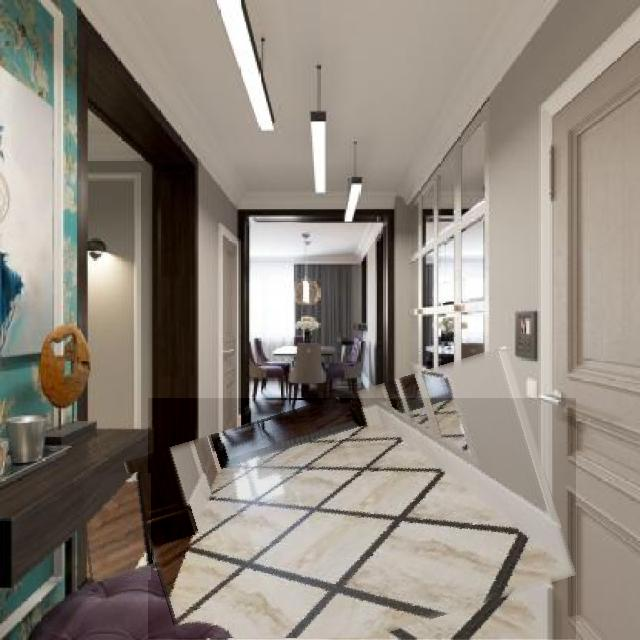floor: (148, 399, 576, 639), (84, 473, 151, 580)
